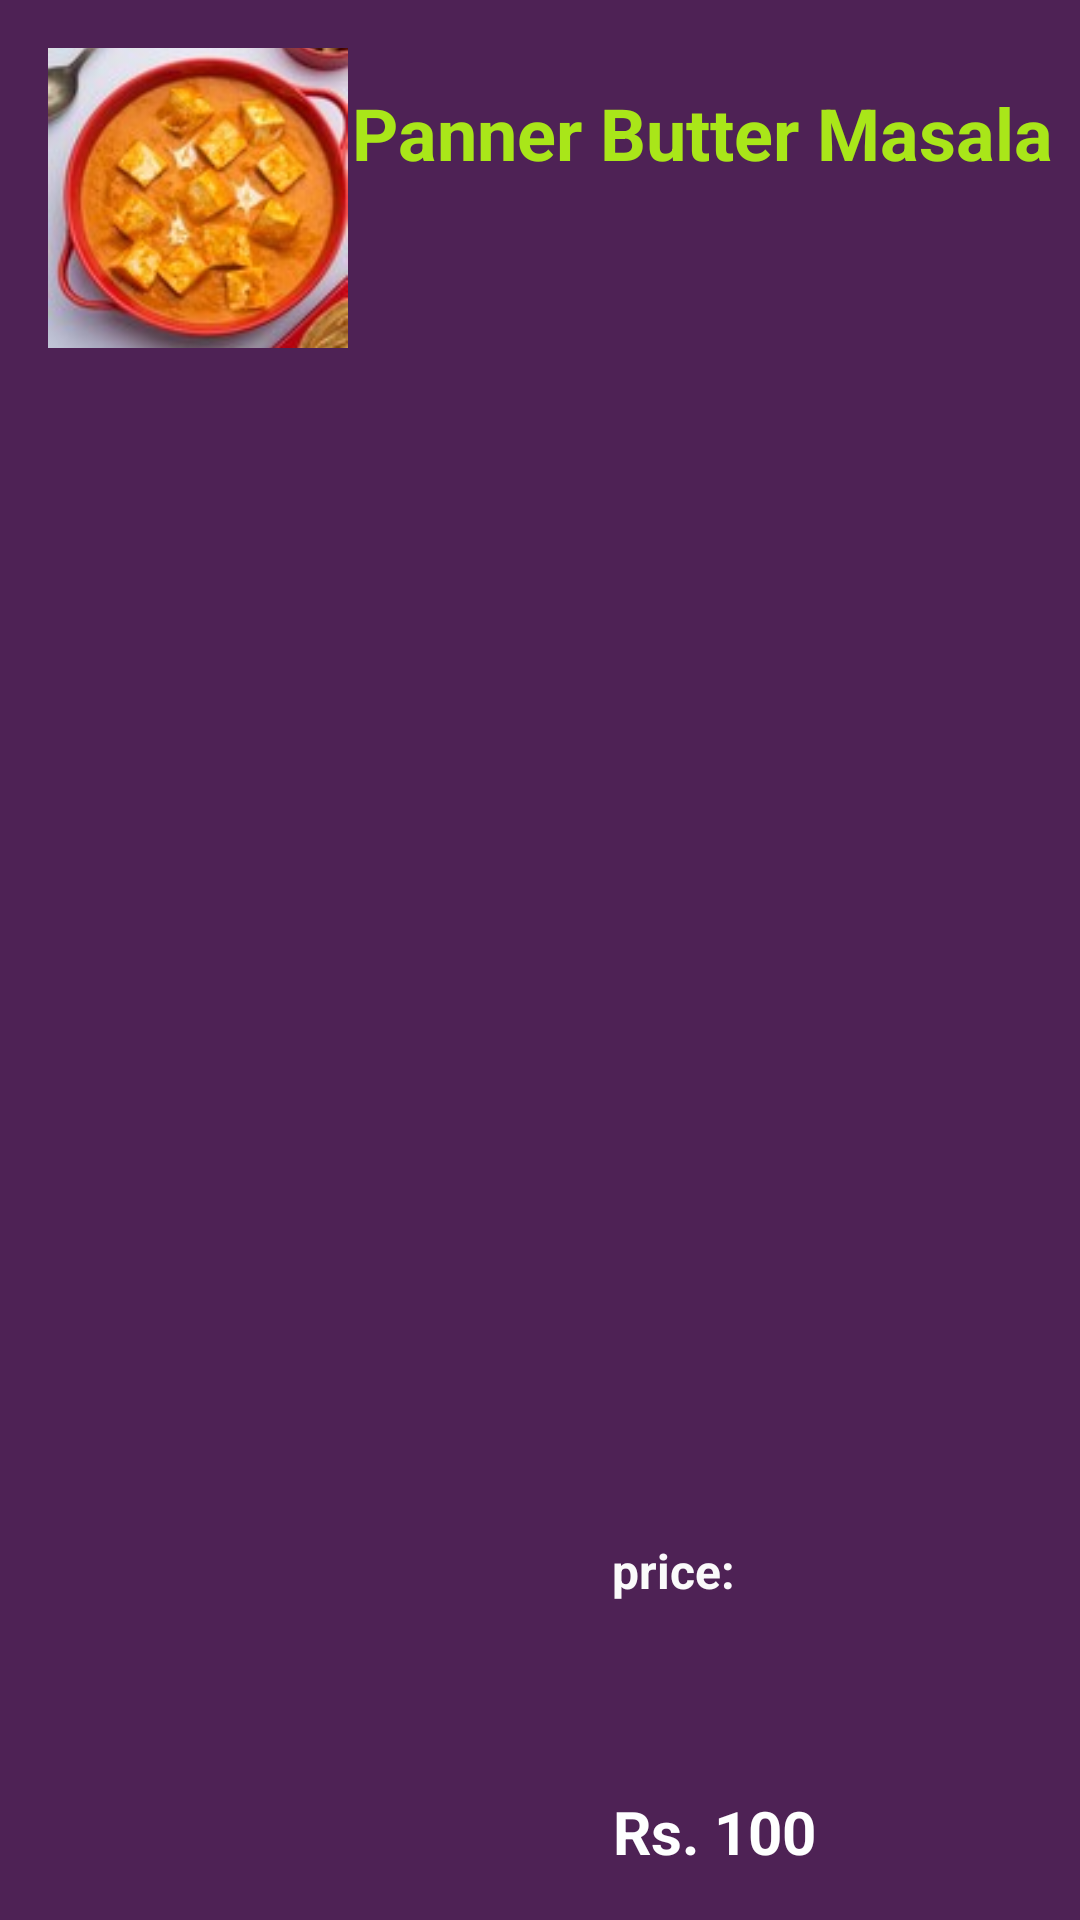

Screen size 1080 x 1920. Icon name, then its center in pixels as [x,y]:
foodnew: [198,198]
